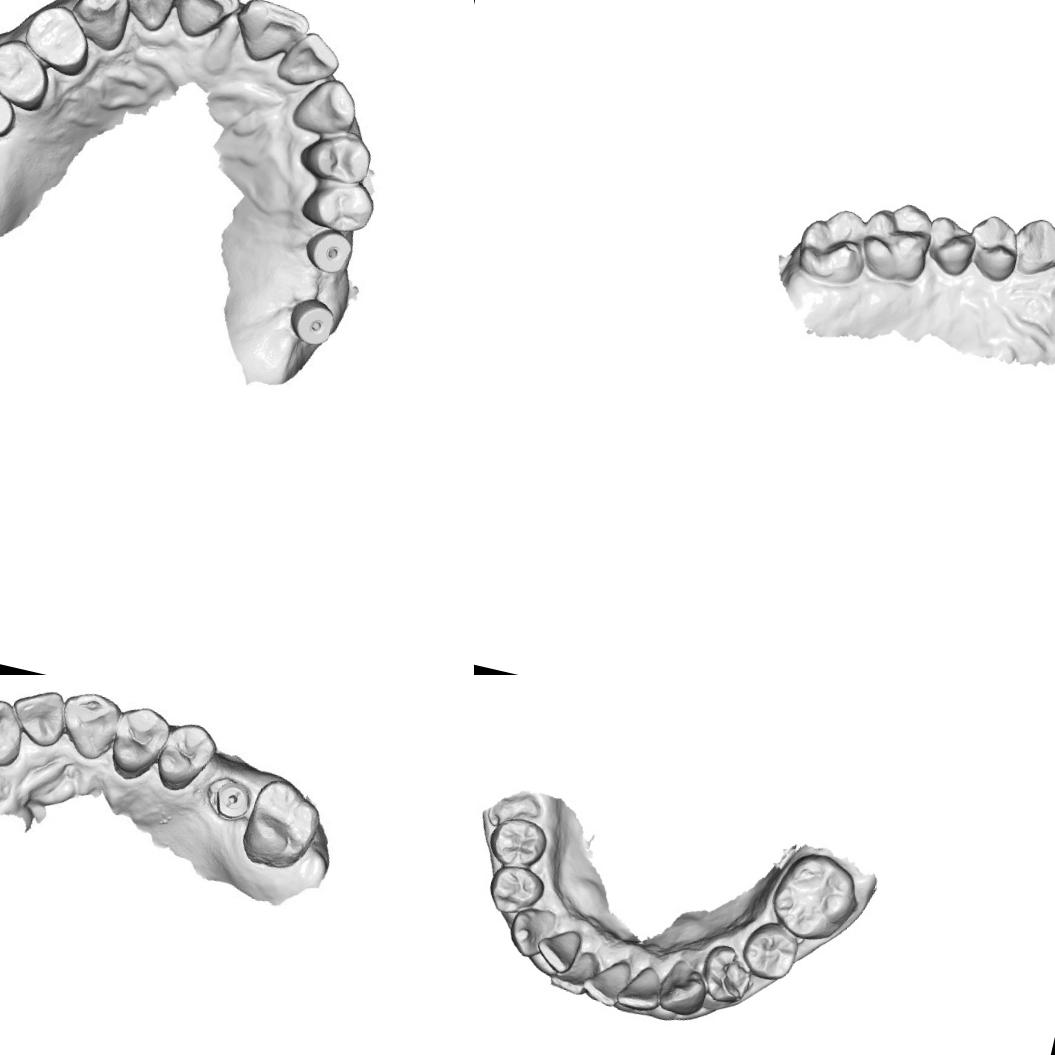canine: (288, 70, 364, 146), (55, 685, 126, 762), (63, 0, 137, 53), (1006, 213, 1055, 287), (660, 960, 710, 1016), (506, 904, 552, 960)
implant: (281, 290, 348, 358), (302, 225, 358, 284), (0, 88, 22, 143)
implant_minus: (203, 773, 257, 830)
incisor: (231, 0, 312, 70), (6, 678, 75, 754), (274, 25, 344, 96), (165, 0, 246, 48), (612, 962, 668, 1018), (578, 957, 632, 1010), (546, 950, 598, 1001), (0, 689, 31, 770), (116, 0, 180, 36), (532, 928, 579, 976)
molar: (766, 848, 867, 948), (237, 774, 329, 876), (854, 194, 939, 287), (792, 198, 878, 288)
premolar: (294, 122, 382, 195), (296, 170, 379, 242), (150, 717, 222, 798), (105, 702, 172, 785), (21, 2, 94, 72), (960, 210, 1026, 287), (920, 212, 982, 280), (696, 942, 758, 1010), (484, 861, 550, 922), (0, 37, 54, 109), (740, 920, 802, 982), (487, 813, 549, 871)
